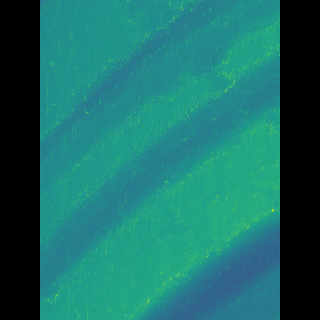Loch: (70, 0, 250, 298), (134, 206, 249, 320)
